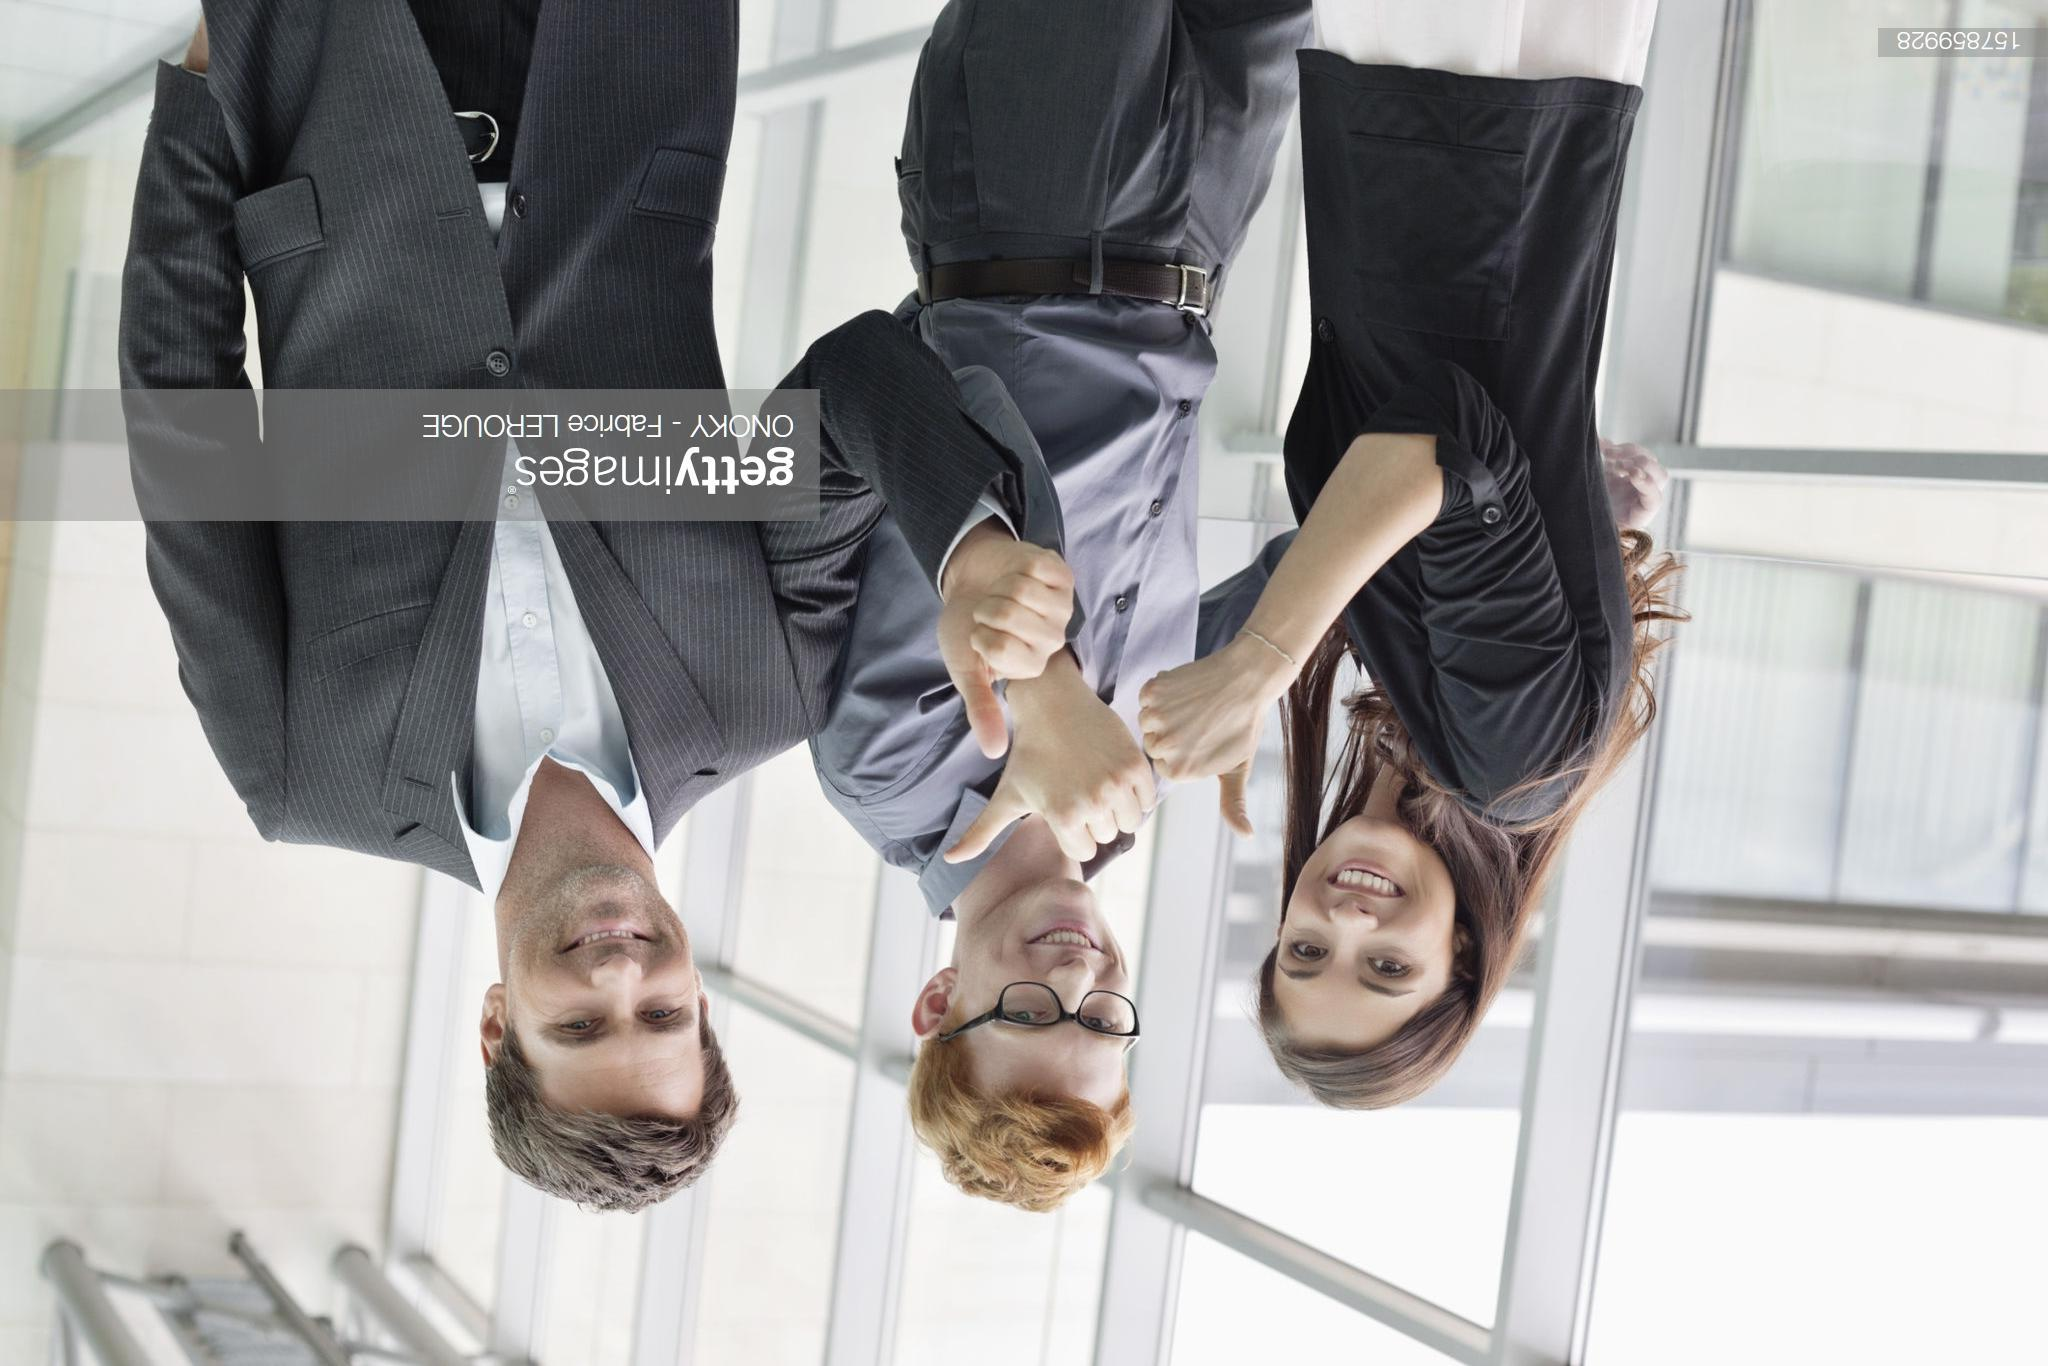thumbsdown: (963, 547, 1076, 761), (942, 758, 1161, 866), (1137, 668, 1257, 840)
